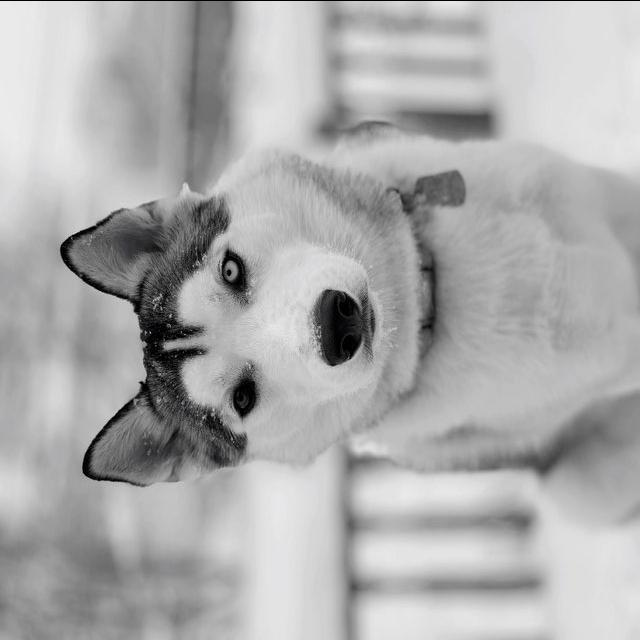husky: (58, 118, 638, 527)
